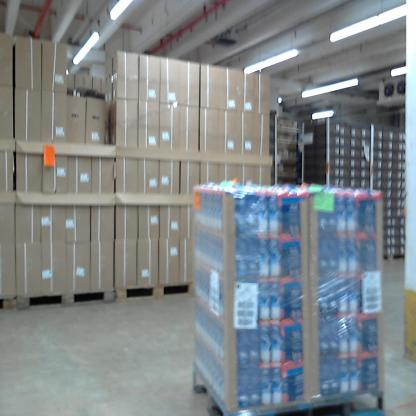pallet: (12, 281, 120, 317), (115, 283, 202, 304), (0, 292, 24, 316)
